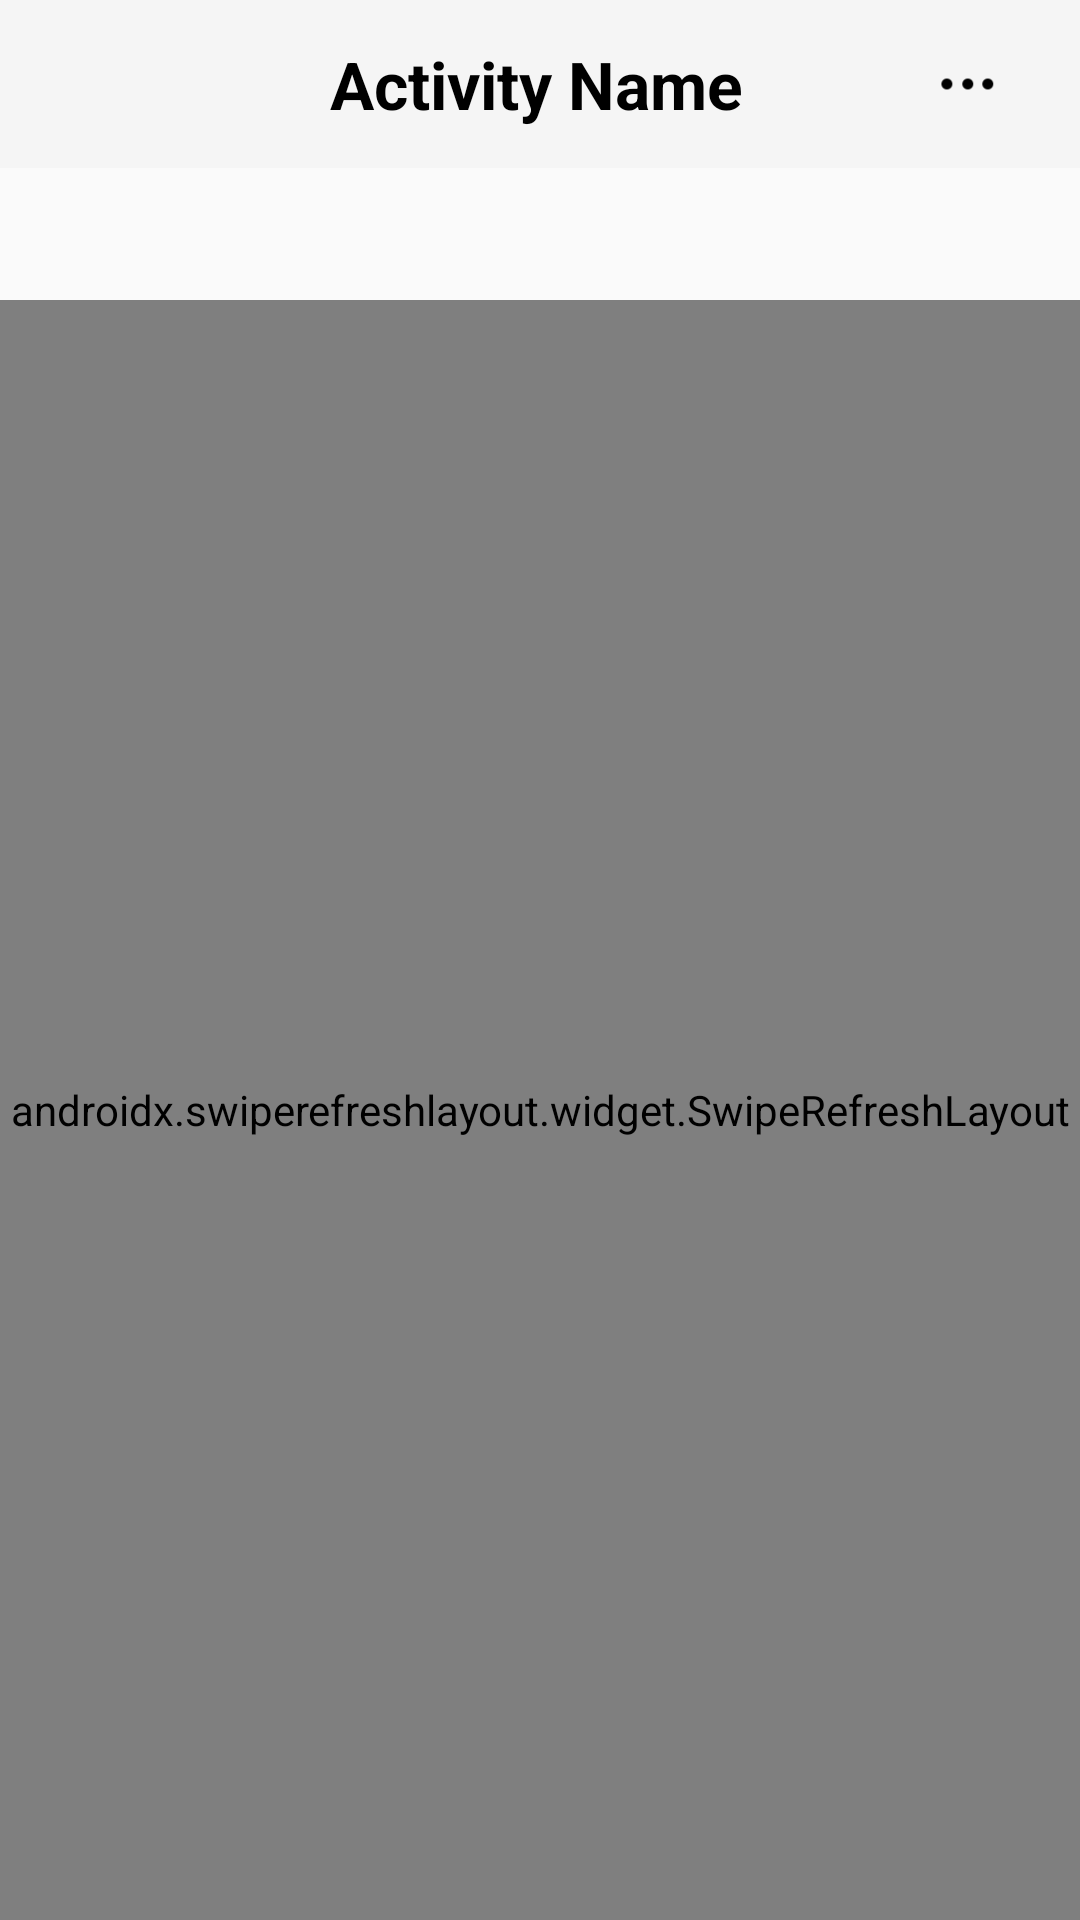

Named icons in this screenshot (1080x1920) and their centers, (x=x, y=y):
navbar more: (x=967, y=84)
